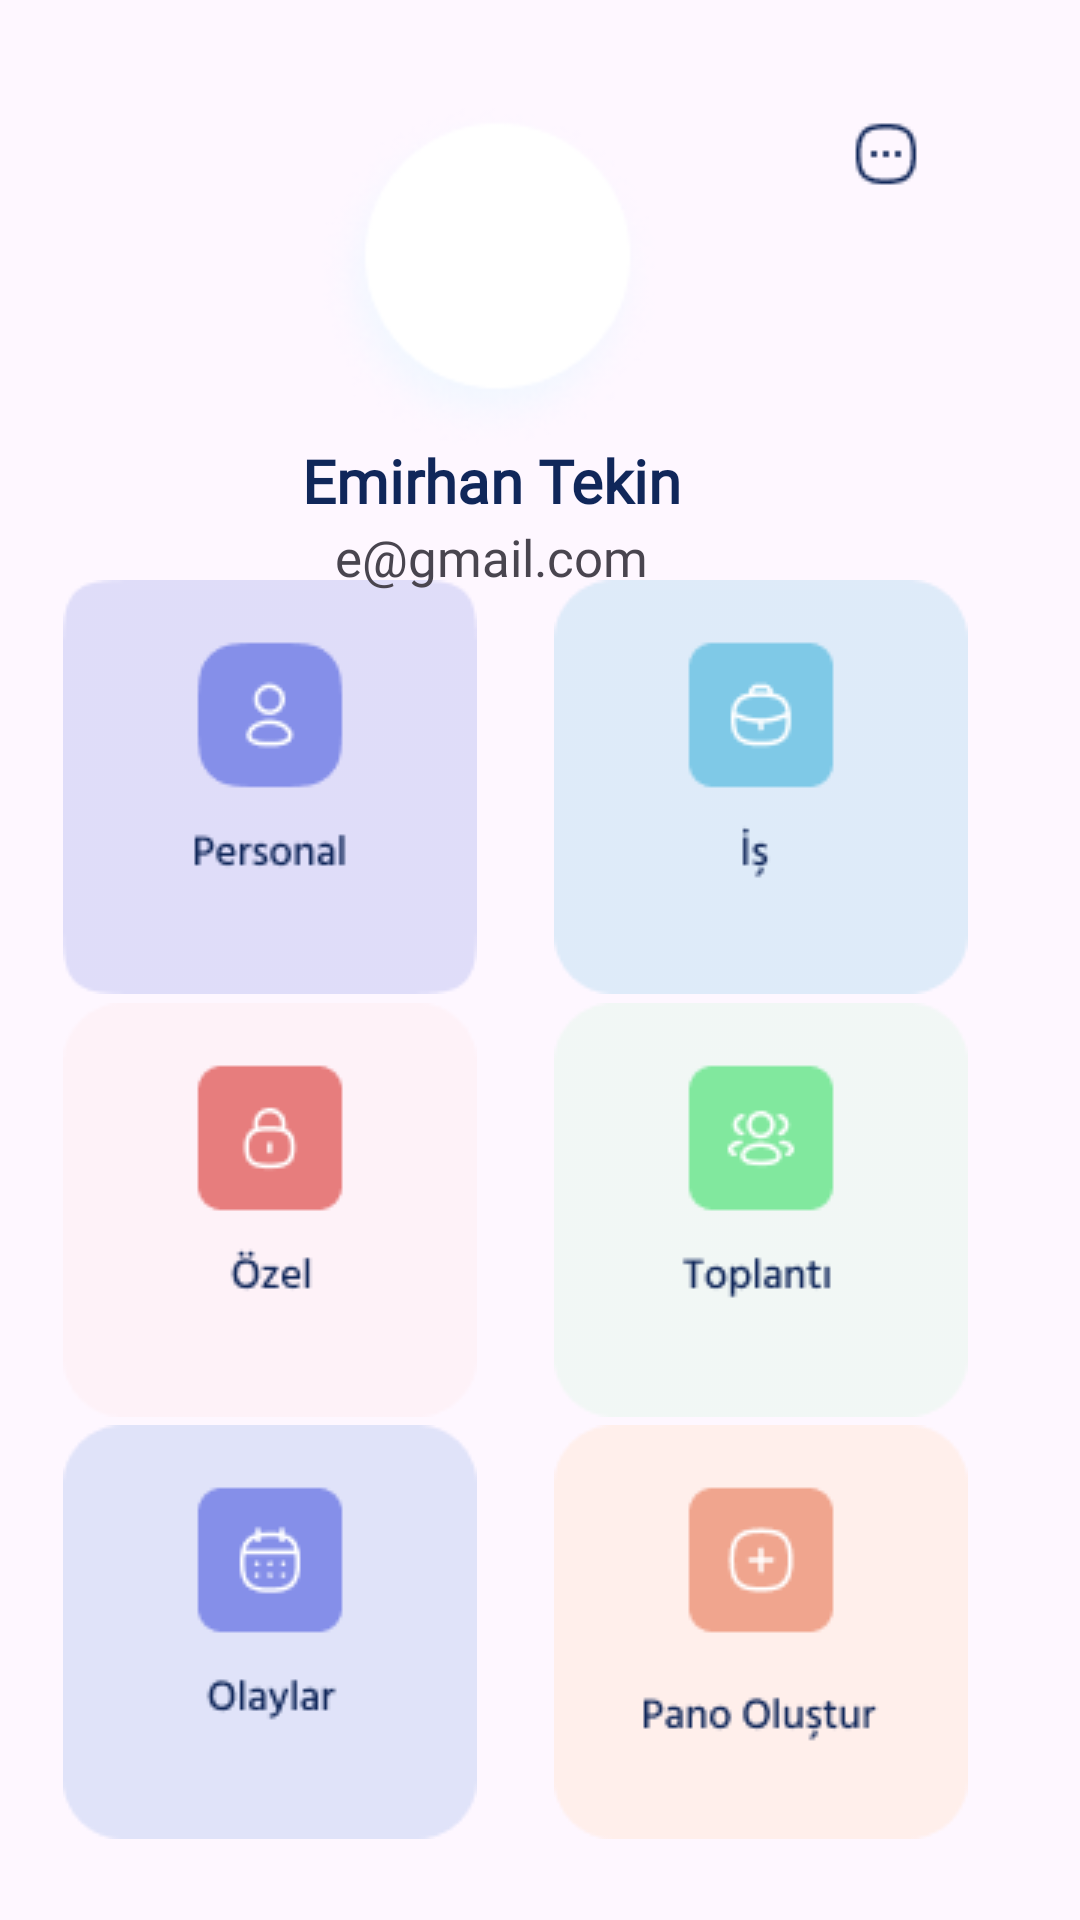

Icon bounding boxes for this 1080px×1920px phone screenshot, format (x1, y1, x2, y2):
More options: (855, 123, 917, 185)
